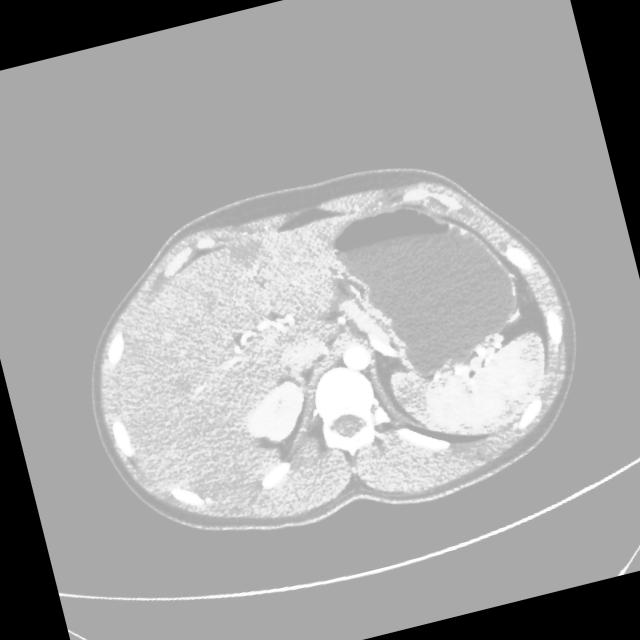NORMAL: (7, 112, 640, 599)
